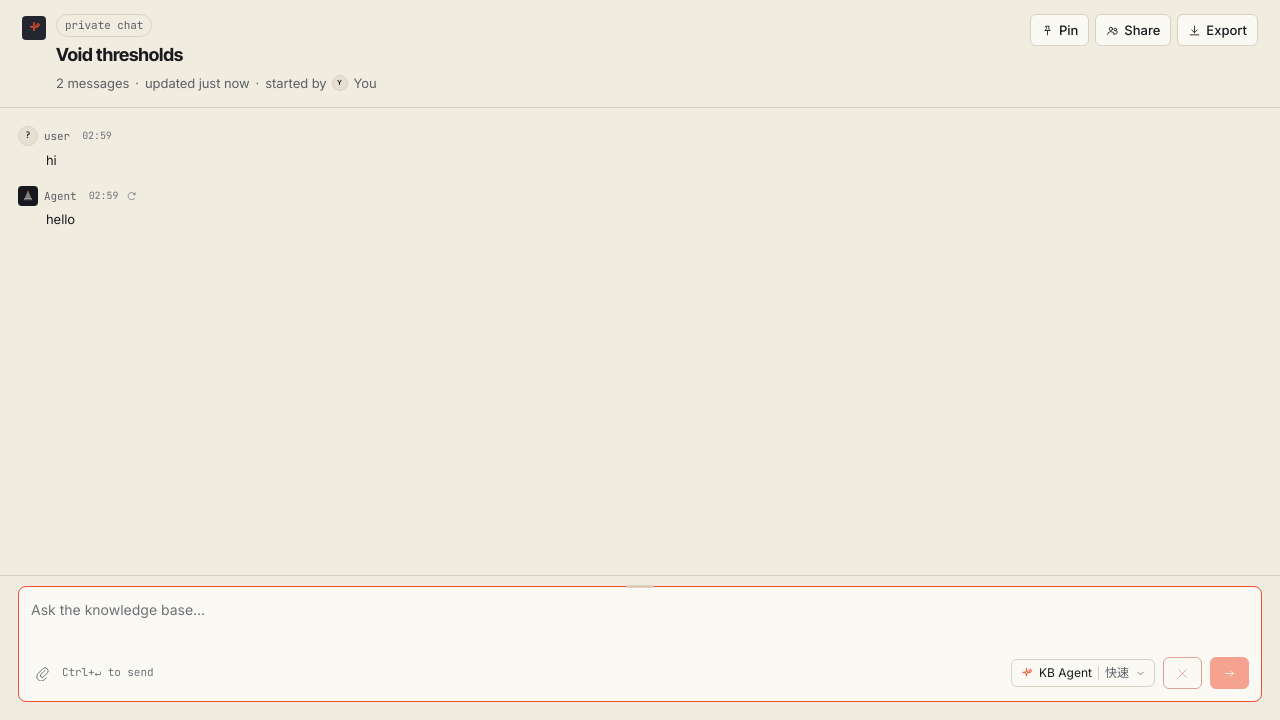
KbChatView header › pins the conversation (toggles the action label)
The image size is (1280, 720).
expect the text "Void thresholds" is shown: met, box [56,44,183,65]
Step 1. Click the button with aria-label "Pin conversation" → (1060, 30), box [1030,14,1089,46]
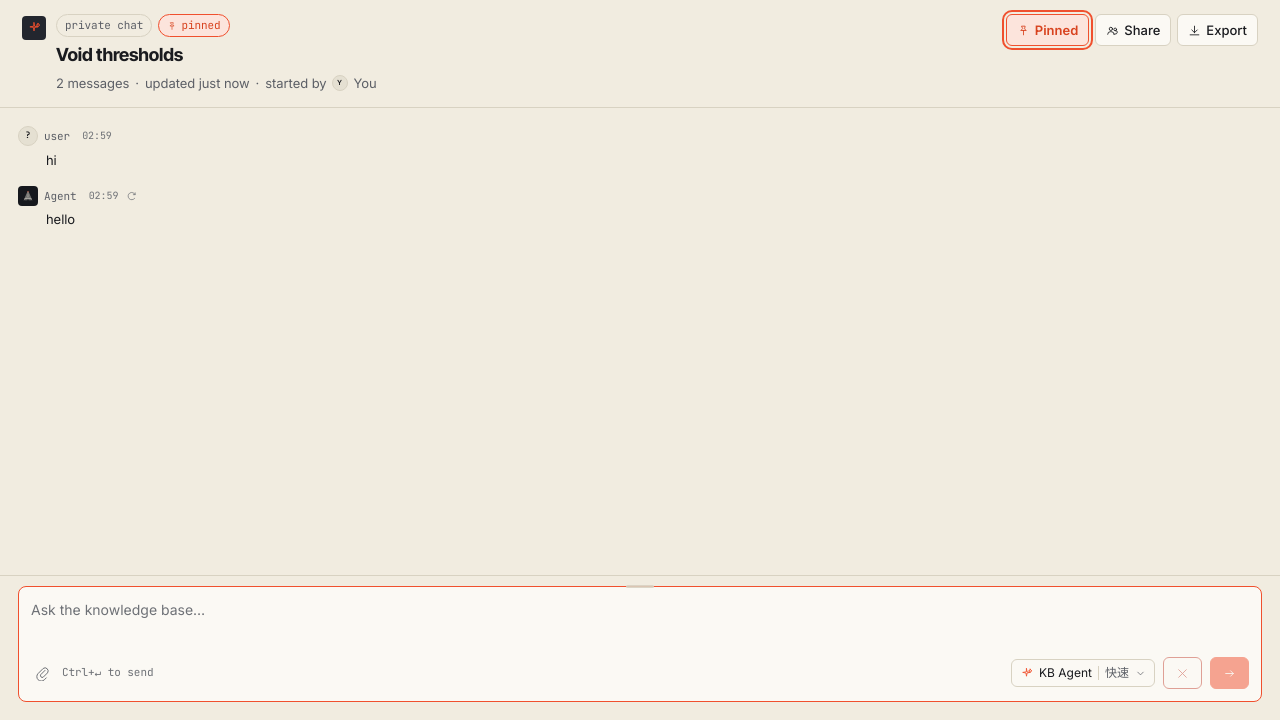
expect the button with aria-label "Unpin conversation" is shown: met, box [1006,14,1089,46]
